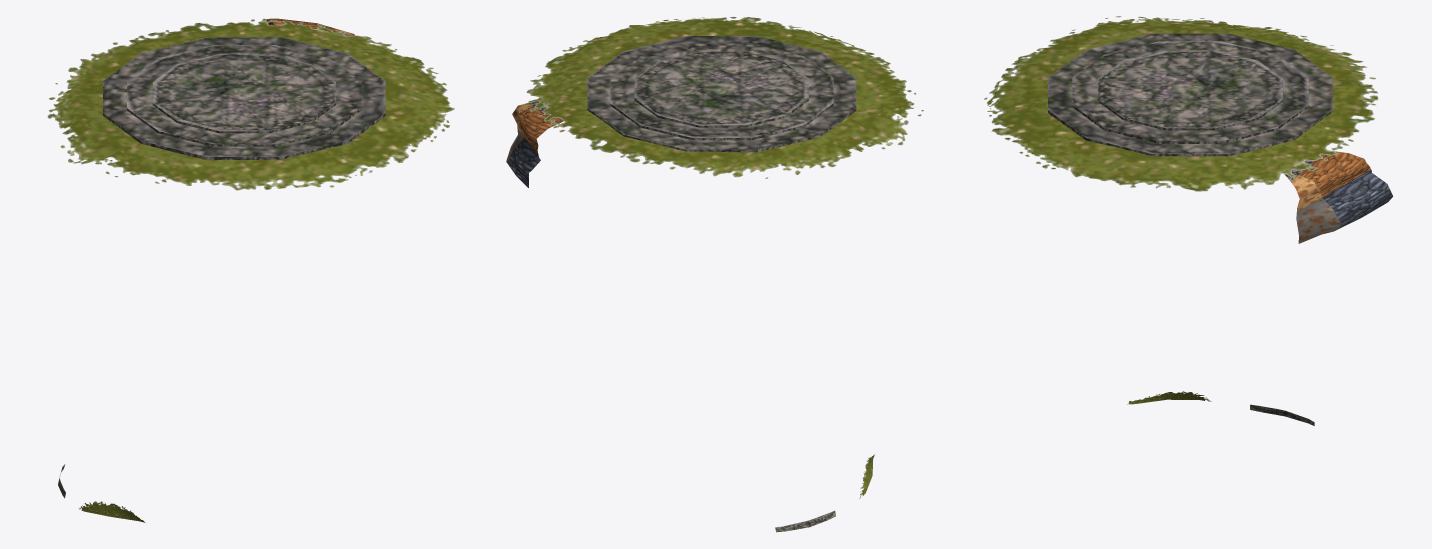
File: CentralPlatformLarge.fbx
3 views of the same model, side by side, from view 1: azimuth 30°, elevation 25°; view 2: azimuth 150°, elevation 25°; view 3: azimuth 270°, elevation 25° (orthographic). The views are drawn at different scales.
Visible parts, largest first — view 1: CenterRitualisticRock, Remesh.001, Remesh; view 2: CenterRitualisticRock, Remesh.001, Remesh; view 3: CenterRitualisticRock, Remesh.001, Remesh.
Part boxes in pixels (x1=…): CenterRitualisticRock: x1=103, y1=37, x2=385, y2=160; Remesh.001: x1=47, y1=18, x2=454, y2=190; Remesh: x1=58, y1=18, x2=354, y2=522; CenterRitualisticRock: x1=587, y1=36, x2=856, y2=152; Remesh.001: x1=526, y1=16, x2=923, y2=178; Remesh: x1=506, y1=101, x2=874, y2=532; CenterRitualisticRock: x1=1048, y1=33, x2=1332, y2=156; Remesh.001: x1=984, y1=16, x2=1378, y2=191; Remesh: x1=1127, y1=150, x2=1393, y2=425.
Size of the model in its own units: 2782 by 2644 by 2723.
